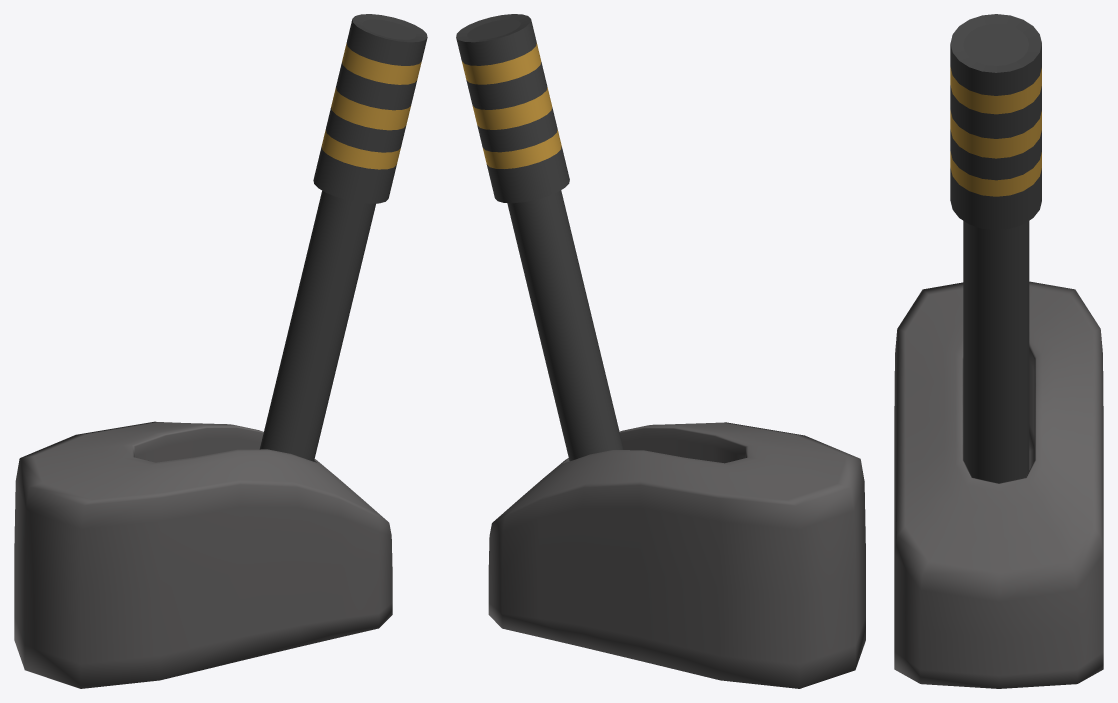
The model's file is switch.fbx.
The picture shows the model from 3 angles, left to right: view 1: azimuth 30°, elevation 25°; view 2: azimuth 150°, elevation 25°; view 3: azimuth 270°, elevation 25°; orthographic projection. The views are drawn at different scales.
Visible parts, largest first — view 1: pCube15, pCylinder7; view 2: pCube15, pCylinder7; view 3: pCube15, pCylinder7.
Boxes of the visible parts, x1,y1,x2,y2 form: pCube15: [14, 421, 392, 688]; pCylinder7: [259, 14, 427, 461]; pCube15: [488, 422, 865, 688]; pCylinder7: [456, 14, 623, 461]; pCube15: [894, 281, 1103, 688]; pCylinder7: [950, 14, 1041, 483].
Size of the model in its own units: 3.11 by 4.25 by 1.2.
